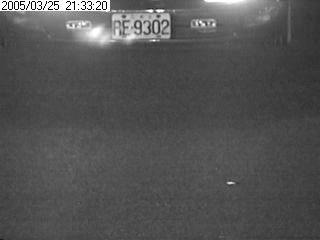plate: (110, 11, 172, 40)
